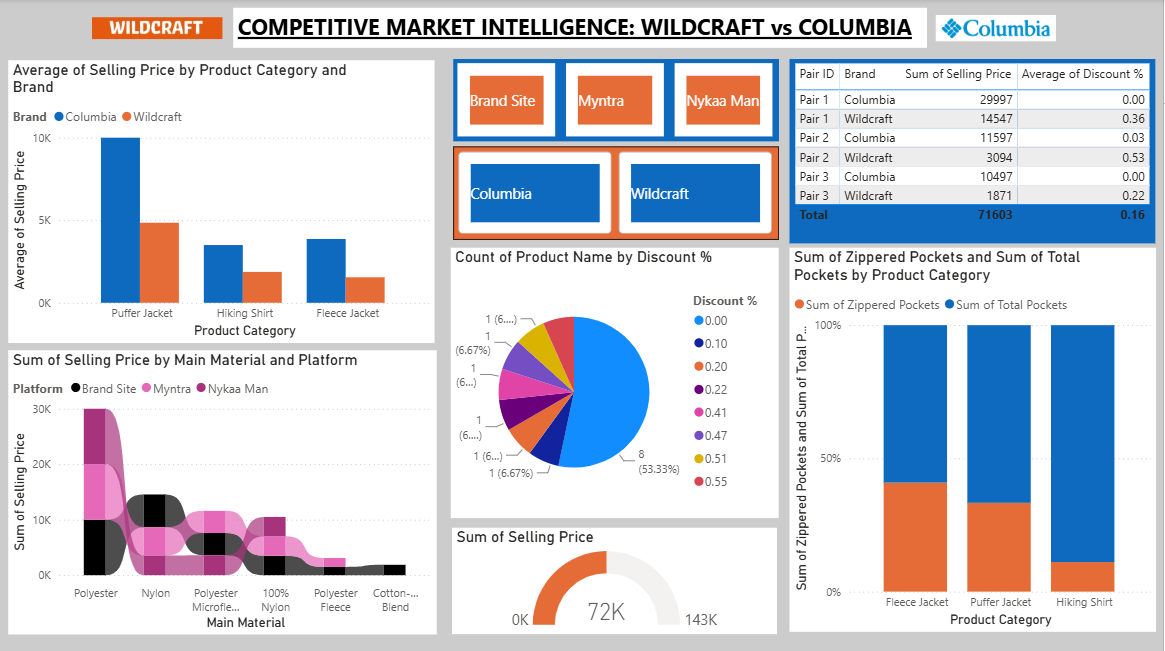

What the dashboard file says about the page in this screenshot:
{"tool":"powerbi","page":{"name":"Page 1","canvas":[1280,720],"ordinal":0},"visuals":[{"type":"textbox","box":[259.2,9.9,762,43.7],"z":0},{"type":"advancedSlicerVisual","fields":{"Values":["Sheet1.Platform"]},"box":[501.2,66.2,357.5,90],"z":1000},{"type":"clusteredColumnChart","fields":{"Category":["Sheet1.Product Category"],"Y":["Avg(Sheet1.Selling Price )"],"Series":["Sheet1.Brand"]},"box":[11.7,66.7,468.3,310],"z":2000},{"type":"ribbonChart","fields":{"Category":["Sheet1.Main Material"],"Y":["Sum(Sheet1.Selling Price )"],"Series":["Sheet1.Platform"]},"box":[11.7,385,470,311.7],"z":3000},{"type":"gauge","fields":{"Y":["Sum(Sheet1.Selling Price )"]},"box":[500,580,356.7,116.7],"z":4000},{"type":"tableEx","fields":{"Values":["Sheet1. Pair ID","Sheet1.Brand","Sum(Sheet1.Selling Price )","Avg(Sheet1.Discount %)"]},"box":[870,66.2,401.2,202.5],"z":5000},{"type":"hundredPercentStackedColumnChart","fields":{"Y":["Sum(Sheet1.Zippered Pockets)","Sum(Sheet1.Total Pockets)"],"Category":["Sheet1.Product Category"]},"box":[870,273.8,402.5,421.2],"z":6000},{"type":"advancedSlicerVisual","fields":{"Values":["Sheet1.Brand"]},"box":[501.3,161.3,357.3,102.7],"z":7000},{"type":"pieChart","fields":{"Category":["Sheet1.Discount %"],"Y":["CountNonNull(Sheet1.Product Name)"]},"box":[498.3,273.3,360,296.7],"z":8000},{"type":"image","box":[1031,9.9,132.4,45.1],"z":9000},{"type":"image","box":[104.1,10,143.5,44.7],"z":10000}]}

Visuals, with their boxes in screenshot pixels (x1, y1, x2, y2), scaled from the page's 1280x720 canvas onto the 1165x651 screenshot:
textbox: (left=236, top=9, right=929, bottom=48)
advancedSlicerVisual - Sheet1.Platform: (left=456, top=60, right=782, bottom=141)
clusteredColumnChart - Sheet1.Product Category x Avg(Sheet1.Selling Price ): (left=11, top=60, right=437, bottom=341)
ribbonChart - Sheet1.Main Material x Sum(Sheet1.Selling Price ): (left=11, top=348, right=438, bottom=630)
gauge - Sum(Sheet1.Selling Price ): (left=455, top=524, right=780, bottom=630)
tableEx - Sheet1. Pair ID x Sheet1.Brand: (left=792, top=60, right=1157, bottom=243)
hundredPercentStackedColumnChart - Sum(Sheet1.Zippered Pockets) x Sum(Sheet1.Total Pockets): (left=792, top=248, right=1158, bottom=628)
advancedSlicerVisual - Sheet1.Brand: (left=456, top=146, right=781, bottom=239)
pieChart - Sheet1.Discount % x CountNonNull(Sheet1.Product Name): (left=454, top=247, right=781, bottom=515)
image: (left=938, top=9, right=1059, bottom=50)
image: (left=95, top=9, right=225, bottom=49)
